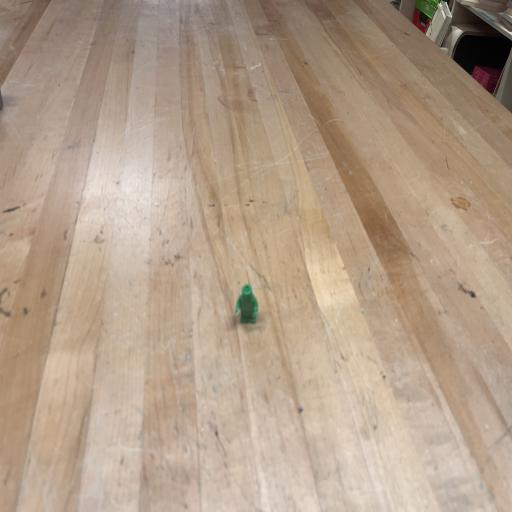Lego-Minifig: (235, 284, 258, 323)
